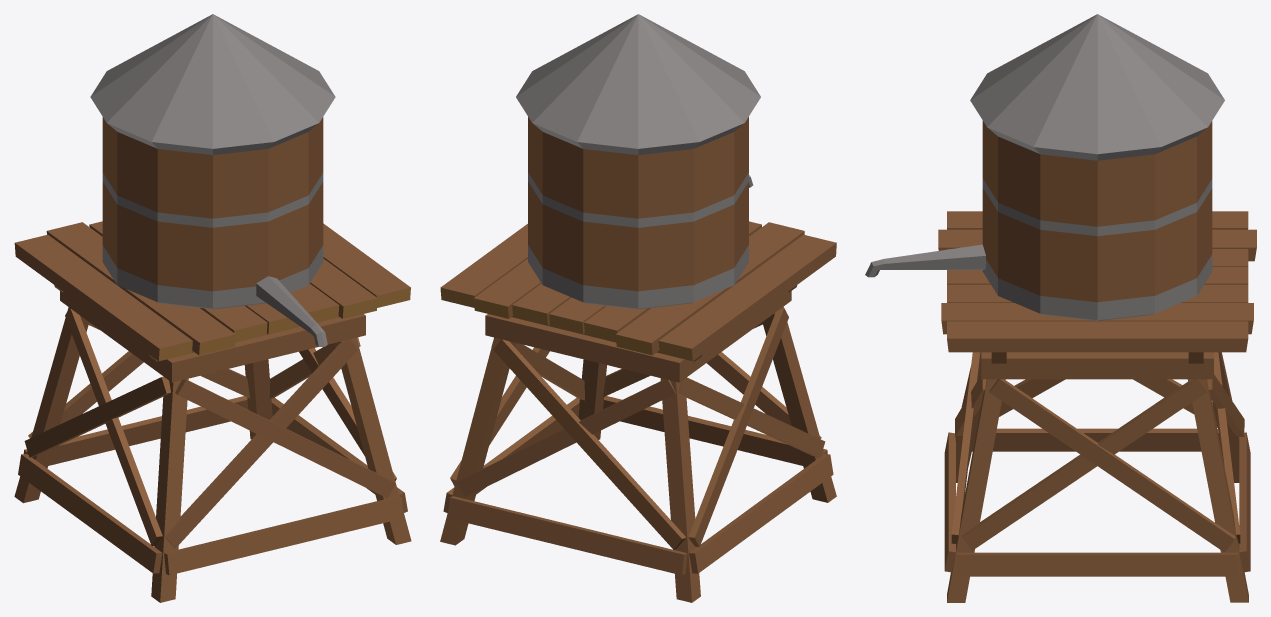
Rendered from water-tower-western.glb.
3 views of the same model, side by side, from view 1: azimuth 30°, elevation 25°; view 2: azimuth 150°, elevation 25°; view 3: azimuth 270°, elevation 25° (orthographic). The views are drawn at different scales.
Visible parts, largest first — view 1: water-tower-western; view 2: water-tower-western; view 3: water-tower-western.
Boxes of the visible parts, <box> form: water-tower-western: <box>14,14,411,602</box>; water-tower-western: <box>440,14,836,602</box>; water-tower-western: <box>865,14,1256,602</box>.
Bounding box in the file's own units: 4.06 × 7.69 × 5.2.
1 material, 1 textured.
